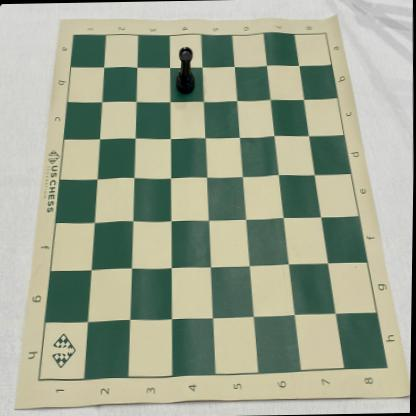black-rook: (174, 46, 195, 94)
